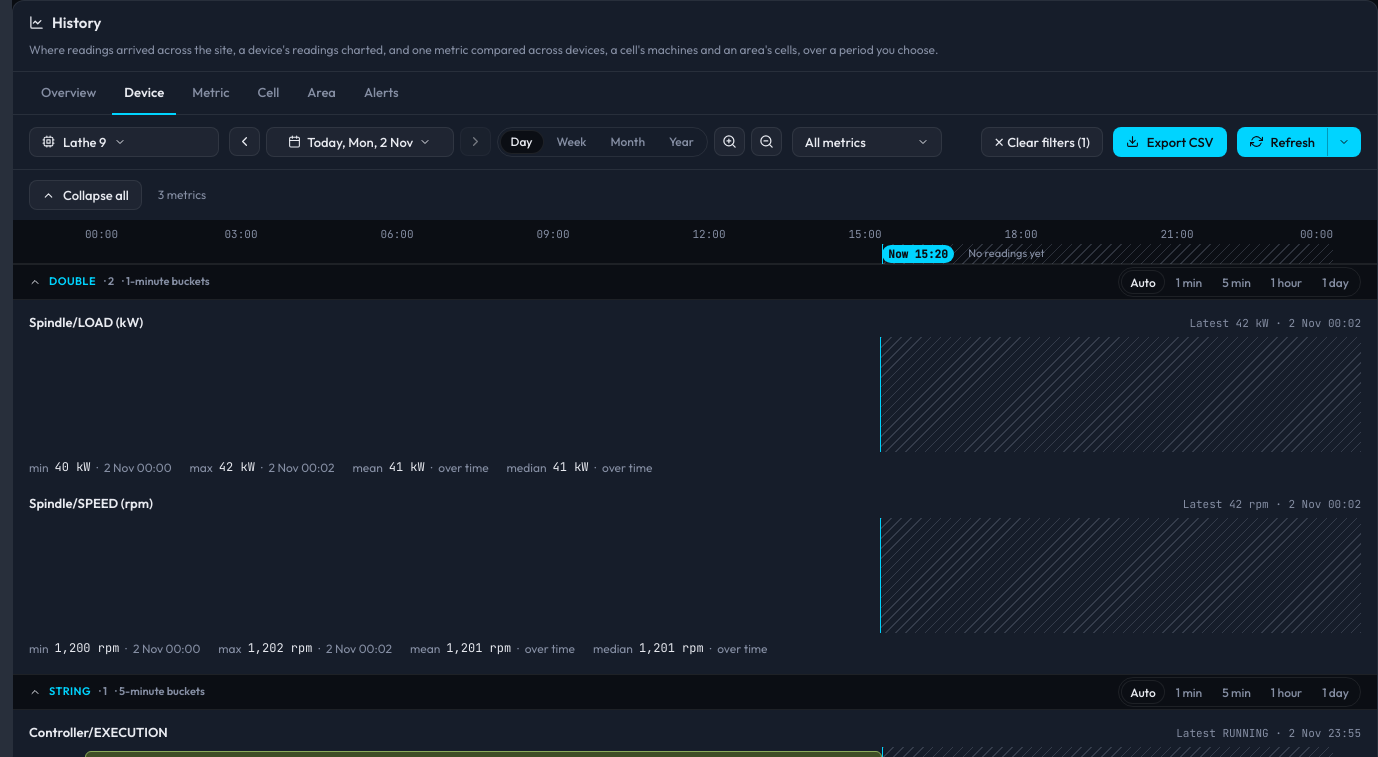
a drag on the axis › is a click, and drops on Escape, as a drag across a chart is
This screenshot has width=1378, height=757.
Expected: the element that starts with "Spindle/LOAD (kW)" is shown, [29,312,1361,477]
Press the mouse on the element with class "chart-axis-track" at (709, 242), box [85,220,1333,264]
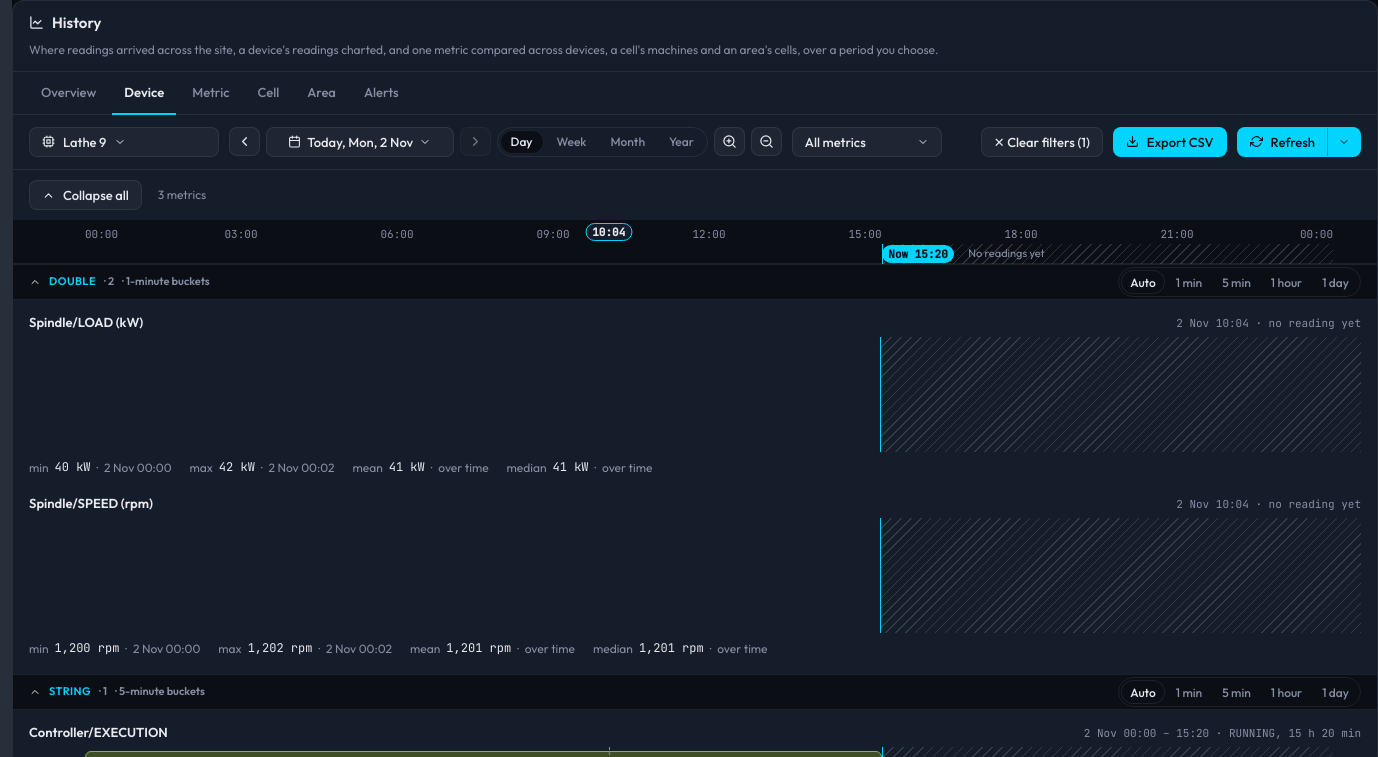
Press the mouse on the element with class "chart-axis-track" at (709, 242), box [85,220,1333,264]
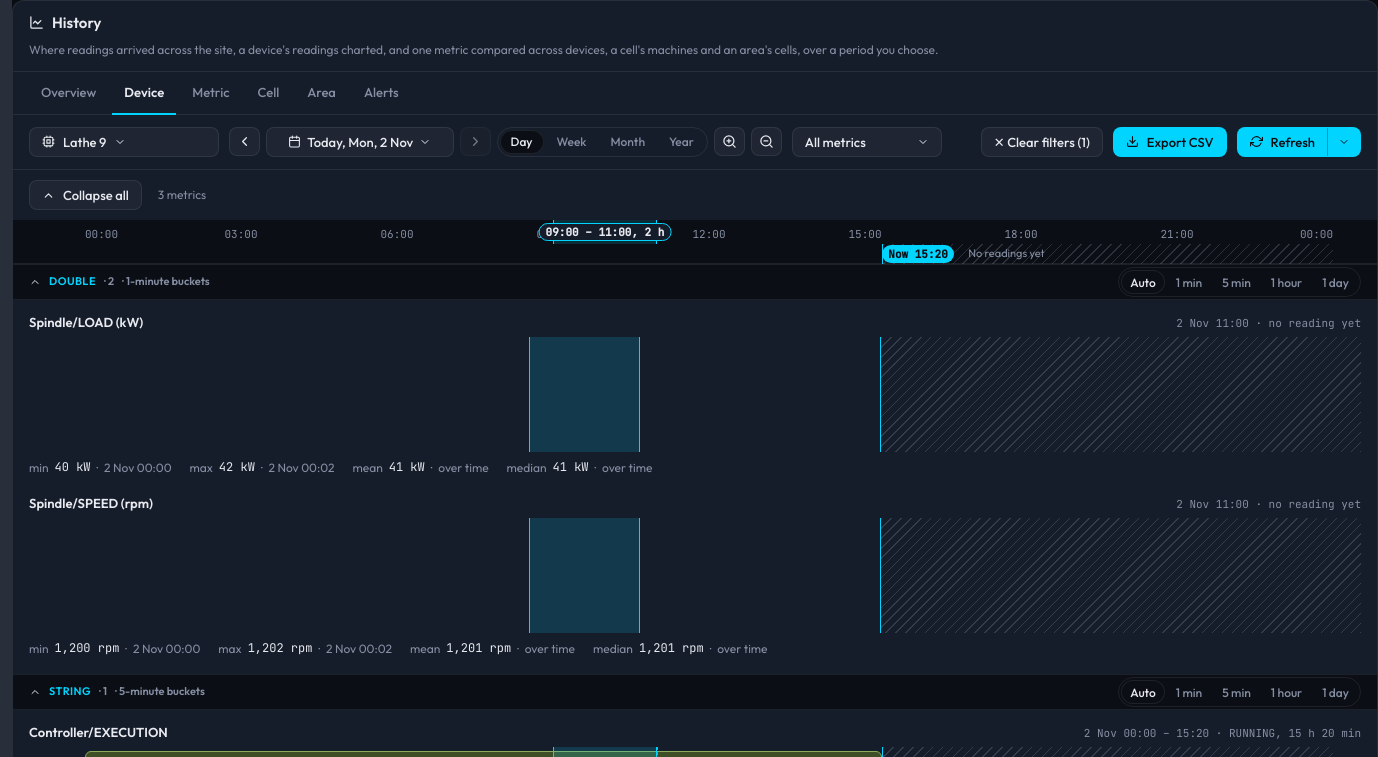
Expected: the element with class "trail-band" is shown, [553,220,657,244]
Press Escape
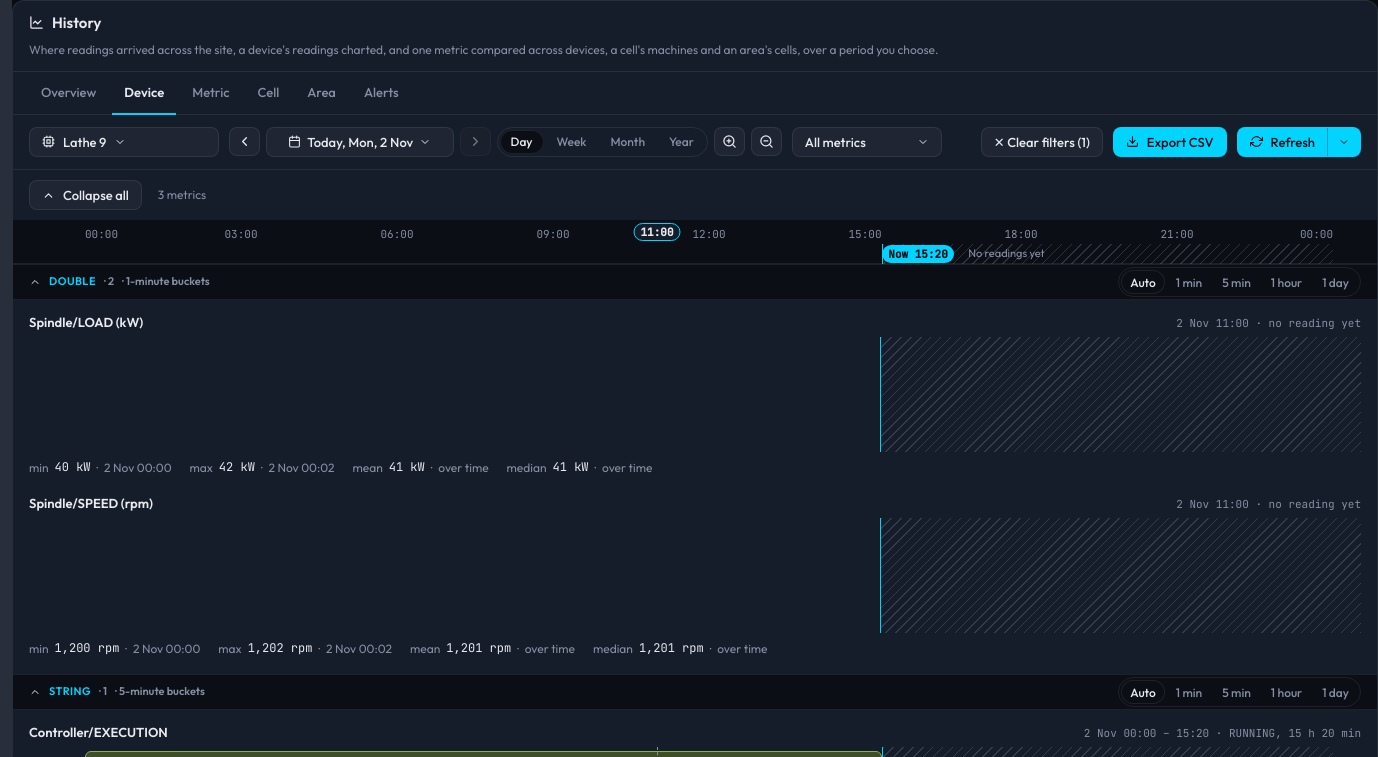
Expected: the element with class "trail-band" is gone
